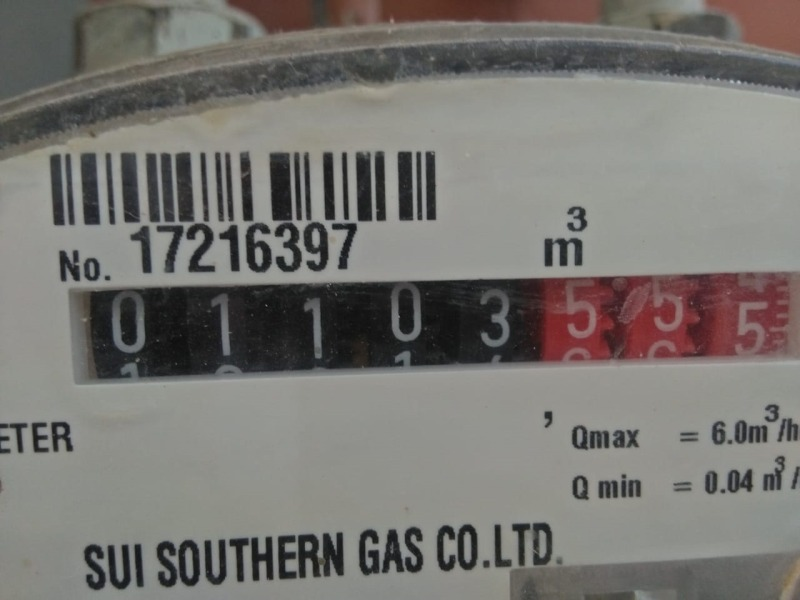ssgc: (66, 274, 794, 377)
